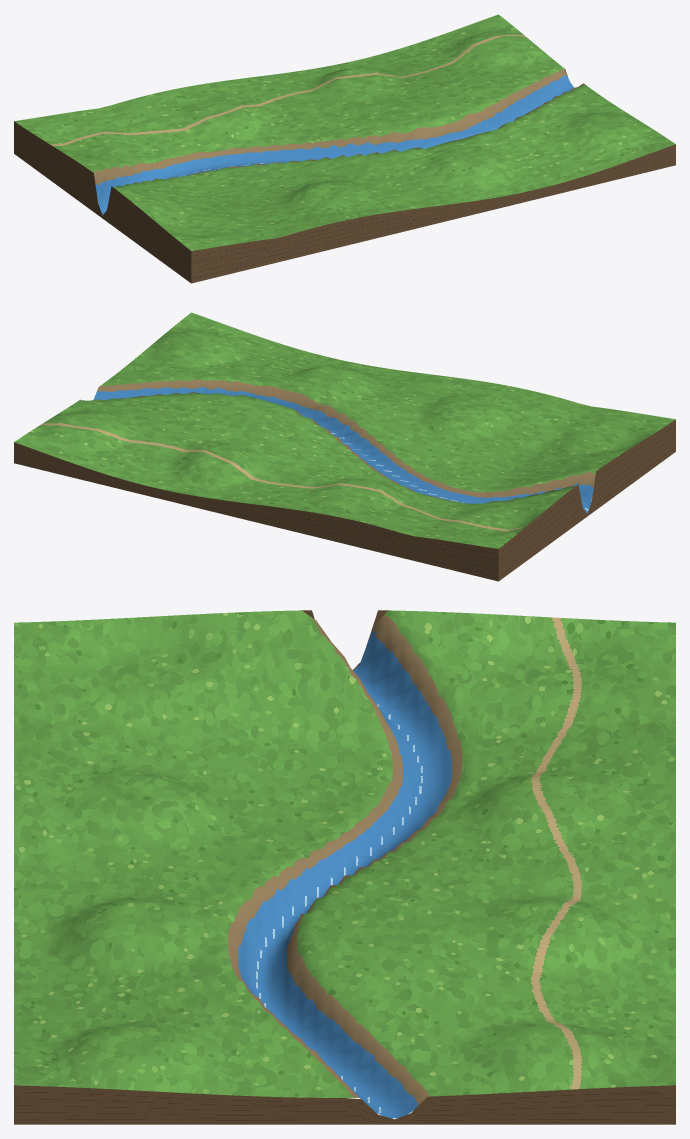
The model's file is diorama.glb.
3 views of the same model, one above another, from view 1: azimuth 30°, elevation 25°; view 2: azimuth 150°, elevation 25°; view 3: azimuth 270°, elevation 25° (orthographic). The views are drawn at different scales.
Parts seen in each view (by area): view 1: terrain; view 2: terrain; view 3: terrain.
Boxes of the visible parts, x1,y1,x2,y2 form: terrain: (14, 14, 675, 283); terrain: (14, 312, 675, 581); terrain: (14, 610, 675, 1124).
Bounding box in the file's own units: 1.42 × 0.1096 × 0.9.
Materials: 2 (2 with a texture image).
